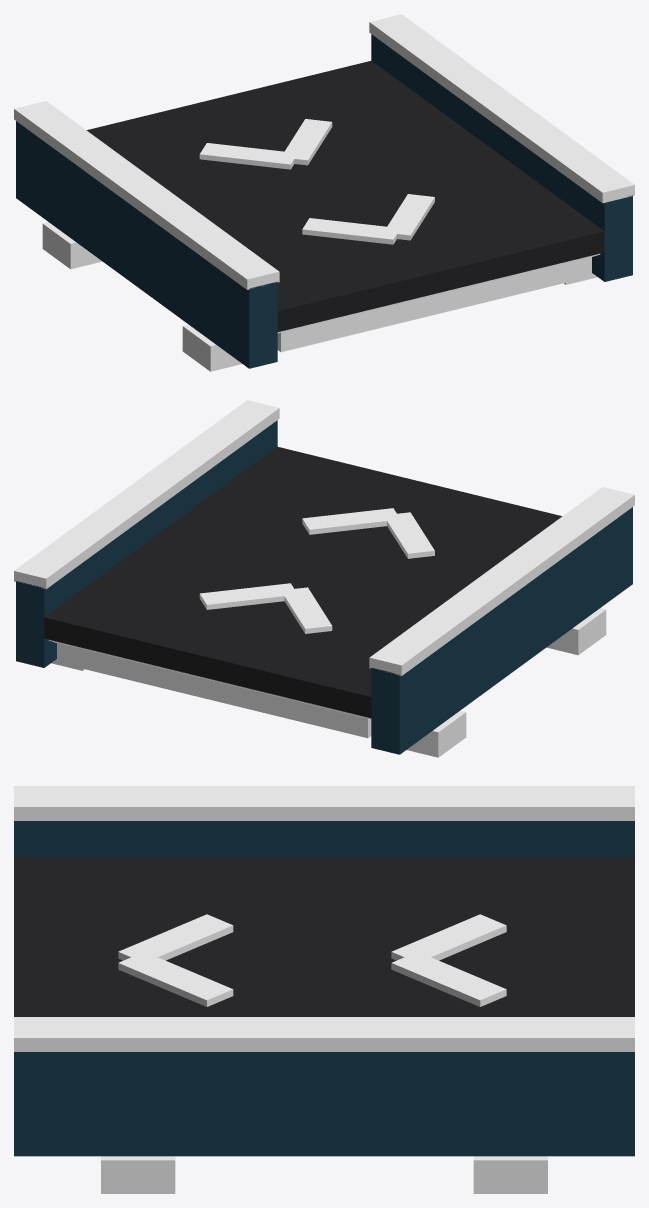
The model's file is belt_straight.obj.
The picture shows the model from 3 angles, top to bottom: view 1: azimuth 30°, elevation 25°; view 2: azimuth 150°, elevation 25°; view 3: azimuth 270°, elevation 25°; orthographic projection. The views are drawn at different scales.
Parts seen in each view (by area): view 1: Belt; view 2: Belt; view 3: Belt.
Part boxes in pixels (left/top/right/bottom): Belt: left=14, top=14, right=634, bottom=371; Belt: left=14, top=400, right=634, bottom=757; Belt: left=14, top=786, right=634, bottom=1193.
Bounding box in the file's own units: 0.98 × 0.2725 × 1.
